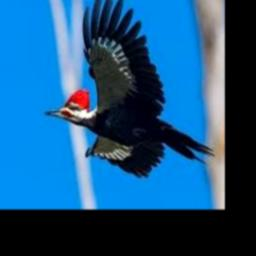Woodpecker: (45, 0, 215, 177)
